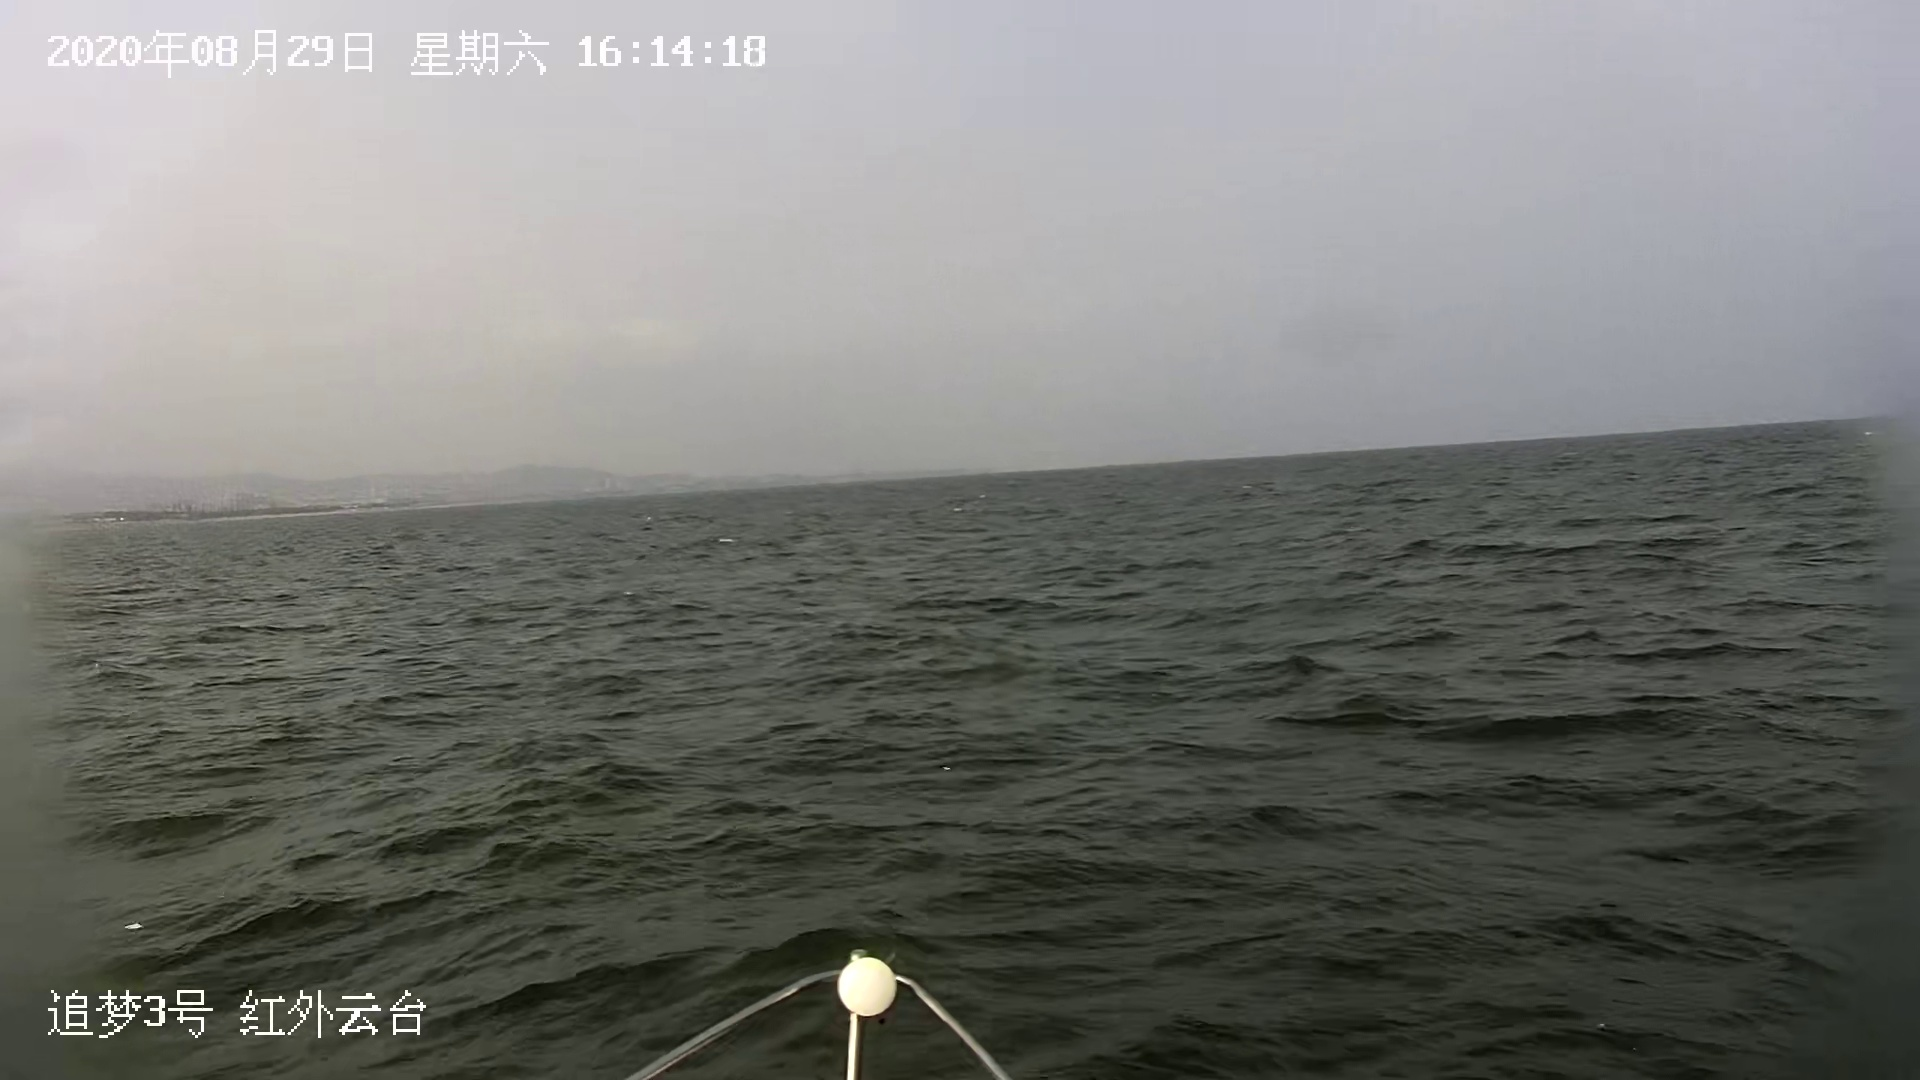coast: (8, 472, 994, 525)
this: (629, 945, 1021, 1079)
